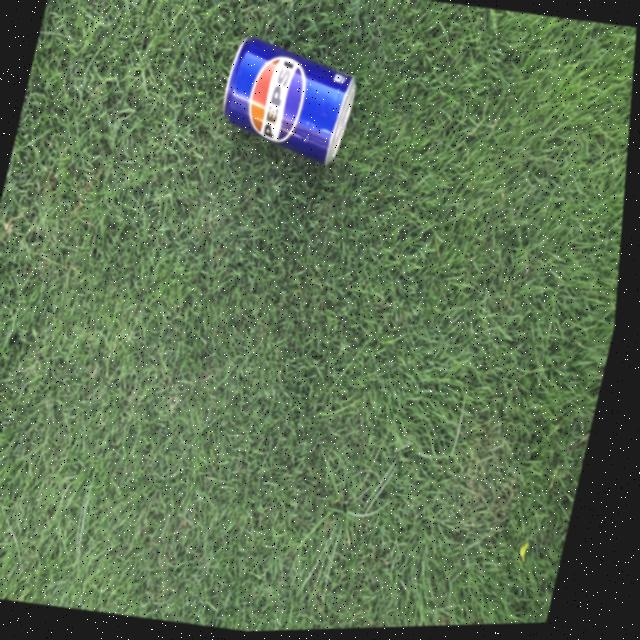Pepsi: (203, 37, 362, 183)
